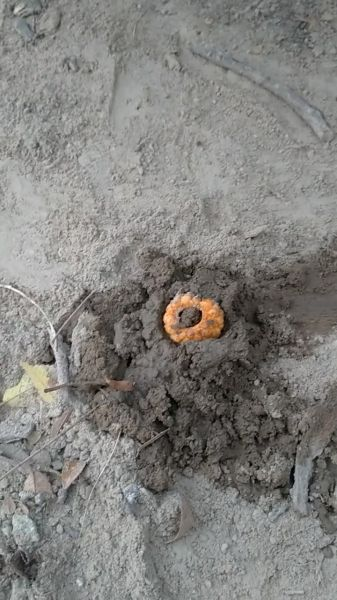eggs: (160, 285, 229, 348)
